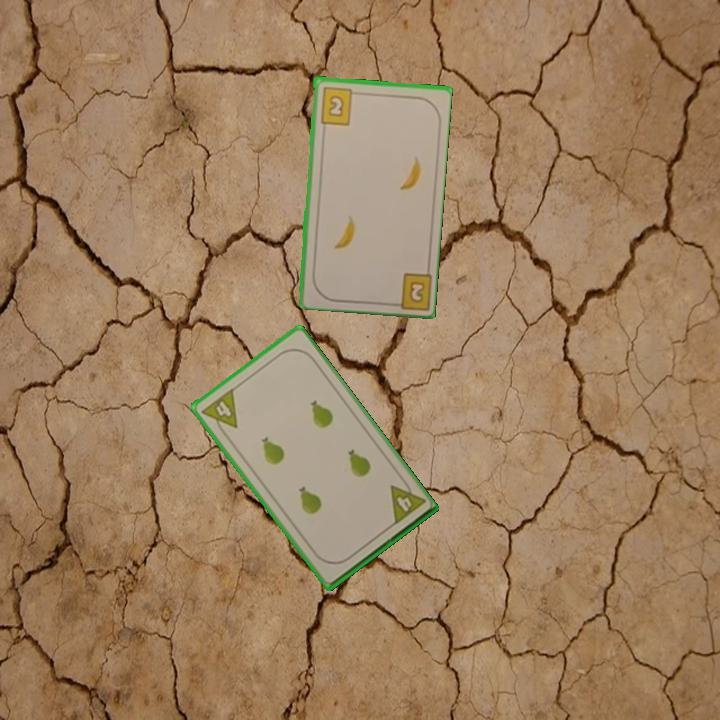2b: (317, 83, 361, 127), (386, 269, 433, 310)
4p: (198, 385, 241, 439), (386, 475, 428, 528)
